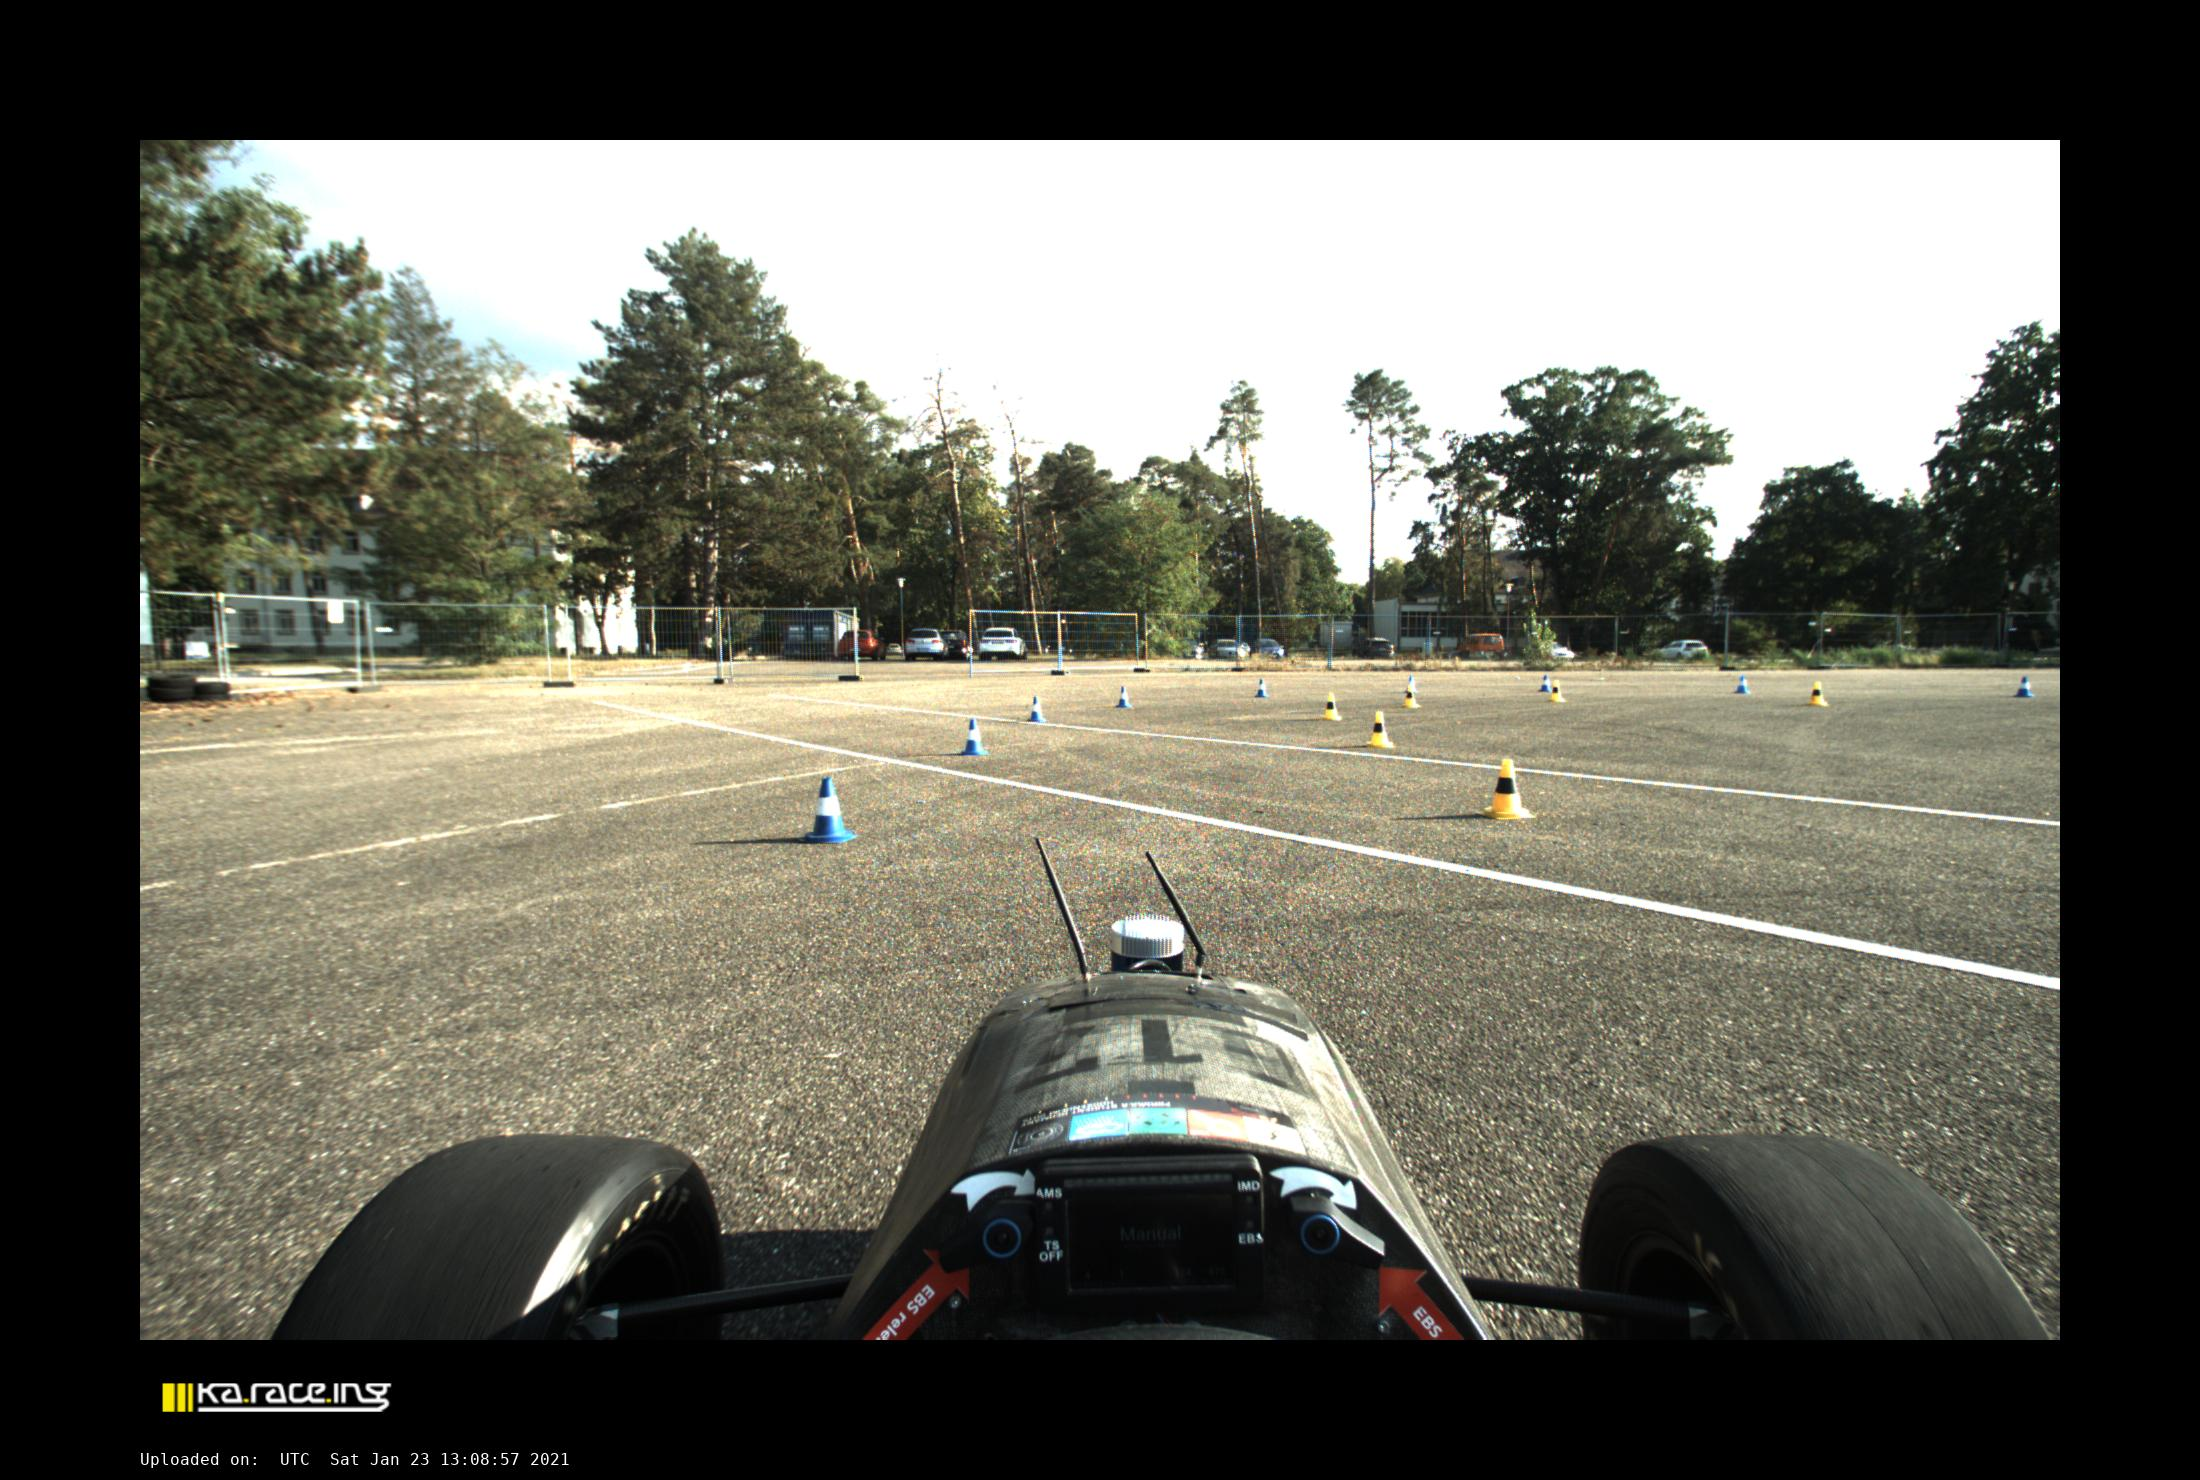blue_cone: (796, 776, 859, 842), (956, 719, 988, 757), (2013, 676, 2033, 699), (1027, 697, 1045, 722), (1115, 685, 1131, 709), (1734, 676, 1751, 694), (1254, 679, 1268, 699), (1404, 676, 1419, 694), (1539, 676, 1553, 692)
yellow_cone: (1483, 760, 1534, 819), (1368, 712, 1396, 748), (1323, 694, 1343, 720), (1809, 681, 1828, 705), (1404, 685, 1422, 709), (1549, 681, 1567, 702)
